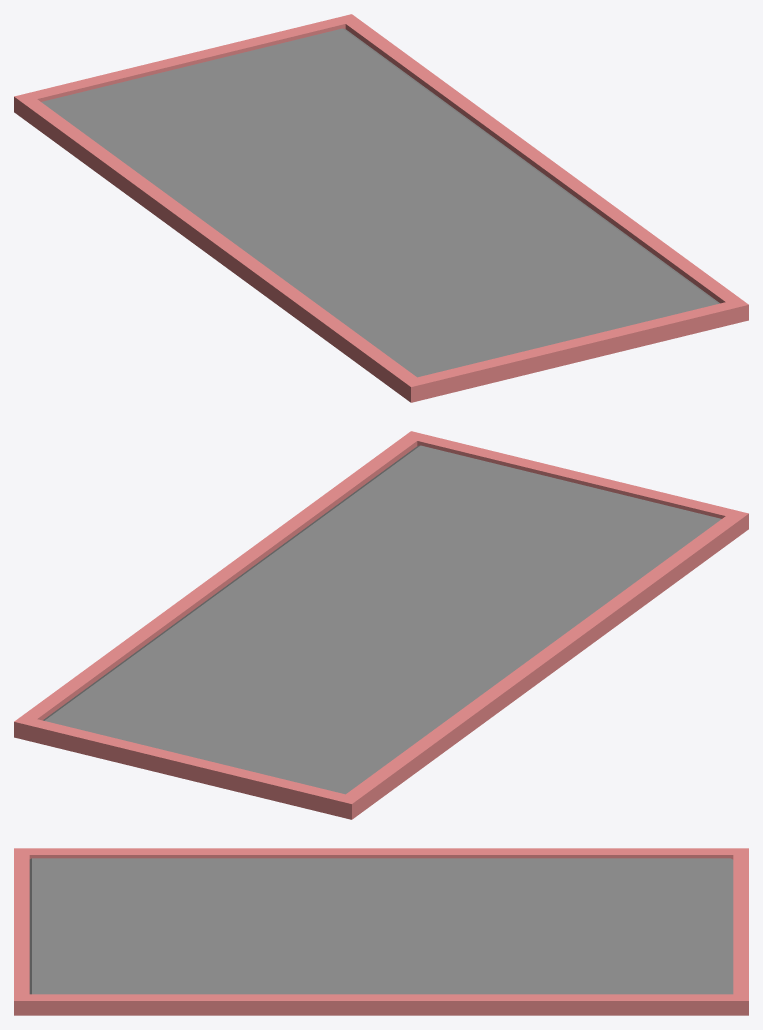
The model's file is S_Envi_Umeda_Prop_Platform_11e.gltf.
The picture shows the model from 3 angles, top to bottom: view 1: azimuth 30°, elevation 25°; view 2: azimuth 150°, elevation 25°; view 3: azimuth 270°, elevation 25°; orthographic projection. The views are drawn at different scales.
Visible parts, largest first — view 1: S_Envi_Umeda_Prop_Platform_11e; view 2: S_Envi_Umeda_Prop_Platform_11e; view 3: S_Envi_Umeda_Prop_Platform_11e.
Part boxes in pixels (x1,y1,x2,y2): S_Envi_Umeda_Prop_Platform_11e: [14, 14, 748, 402]; S_Envi_Umeda_Prop_Platform_11e: [14, 431, 748, 819]; S_Envi_Umeda_Prop_Platform_11e: [14, 848, 748, 1015].
Size of the model in its own units: 1.68 by 0.0745 by 3.41.
